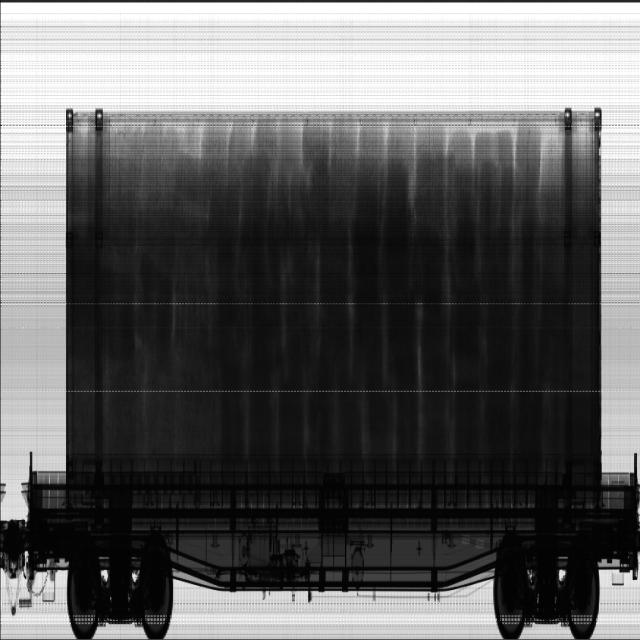textile: (67, 122, 595, 468)
